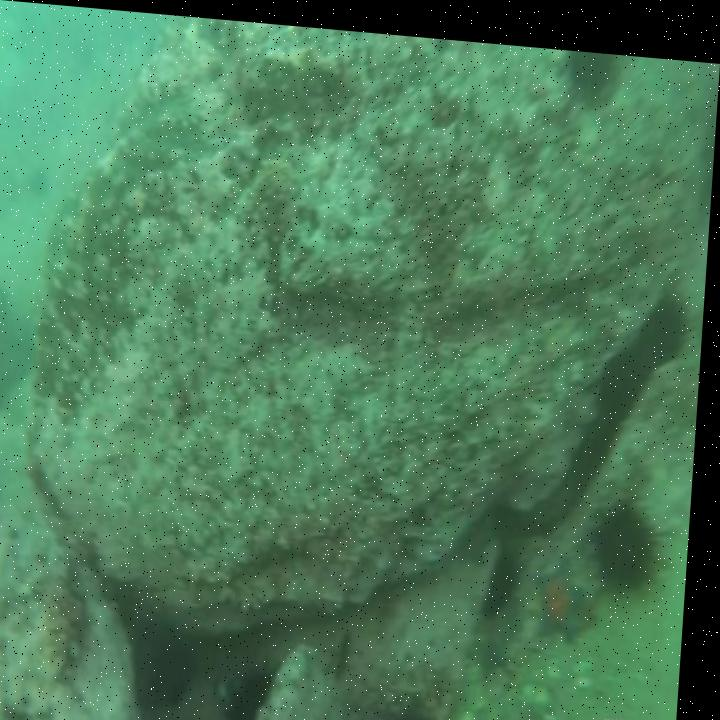echinus: (598, 483, 667, 590), (234, 655, 288, 720), (488, 534, 525, 609)
starfish: (537, 534, 602, 638)
